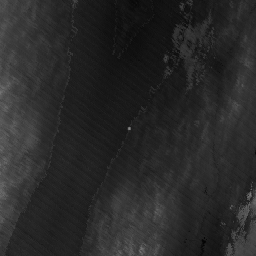Target: (126, 124, 132, 130)
